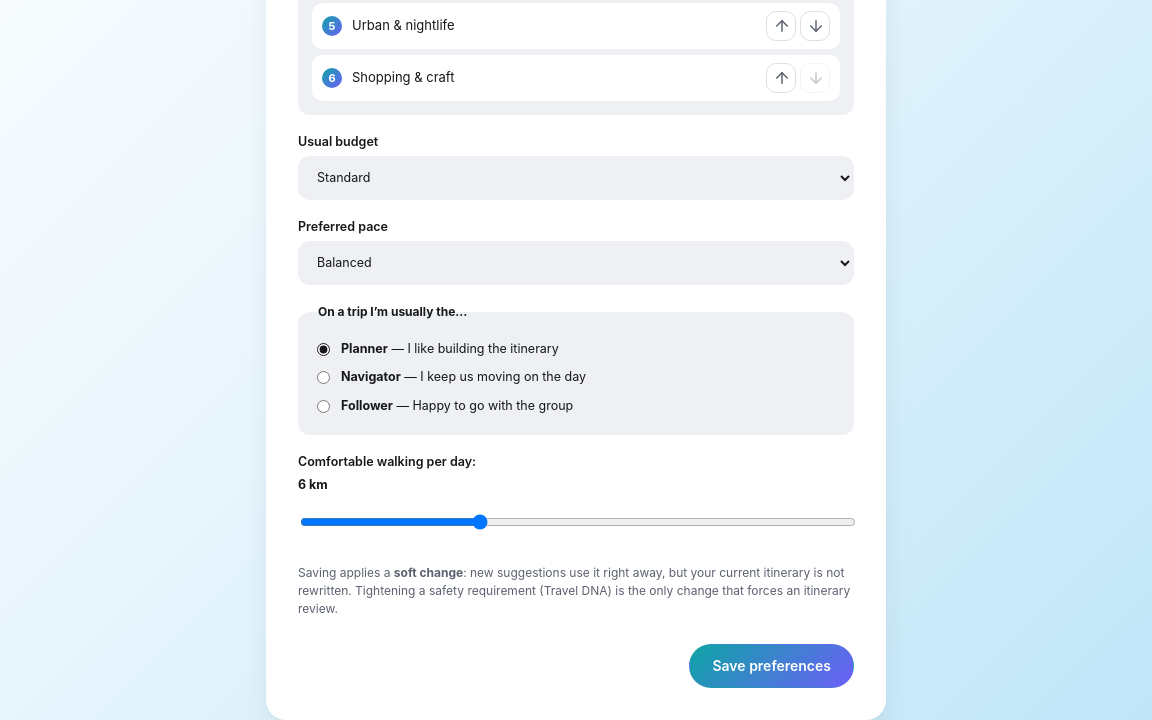
PreferenceSurvey › explains that saving is a soft change and confirms ephemerally
This screenshot has width=1152, height=720.
(page scrolled)
Expected: the text "soft change" is shown, x1=394 y1=565 x2=463 y2=580
Expected: the text "current itinerary is not rewritten" is shown, x1=298 y1=565 x2=850 y2=616
Click the button "Save preferences": click(772, 666) x1=690 y1=644 x2=854 y2=688
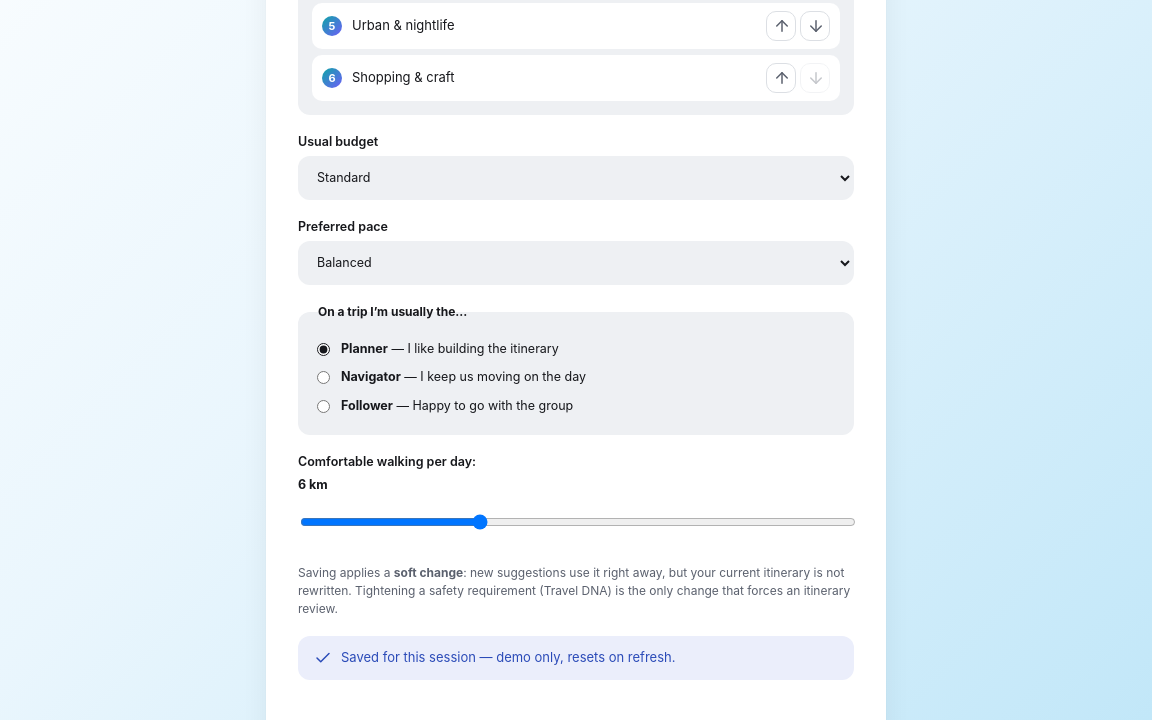
Expected: the message shows "resets on refresh", x1=341 y1=649 x2=676 y2=665
